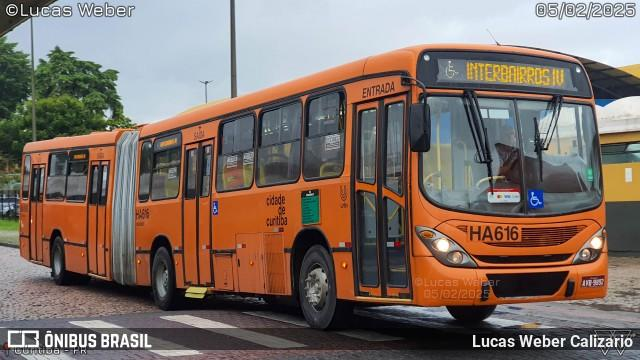INTERBAIRROS IV: (462, 58, 568, 92)
